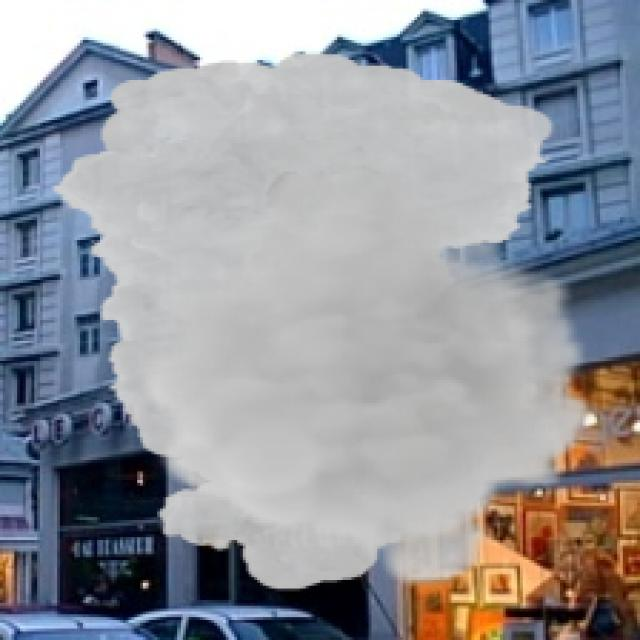smoke: (49, 51, 597, 592)
